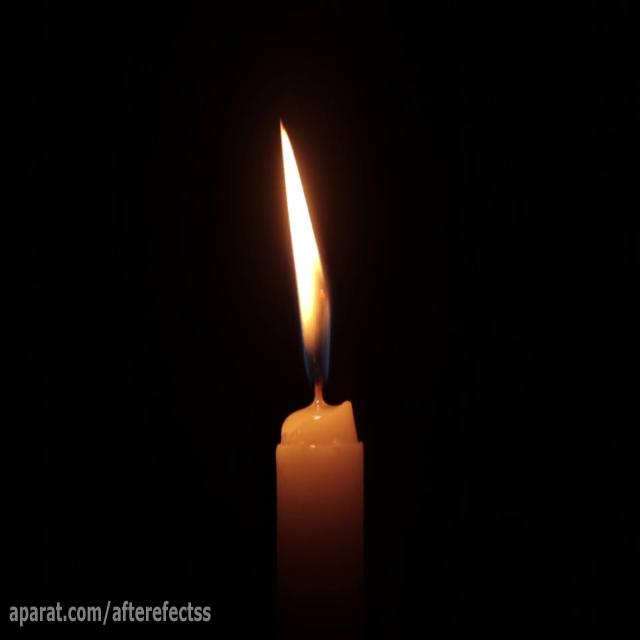fire: (272, 109, 344, 378)
